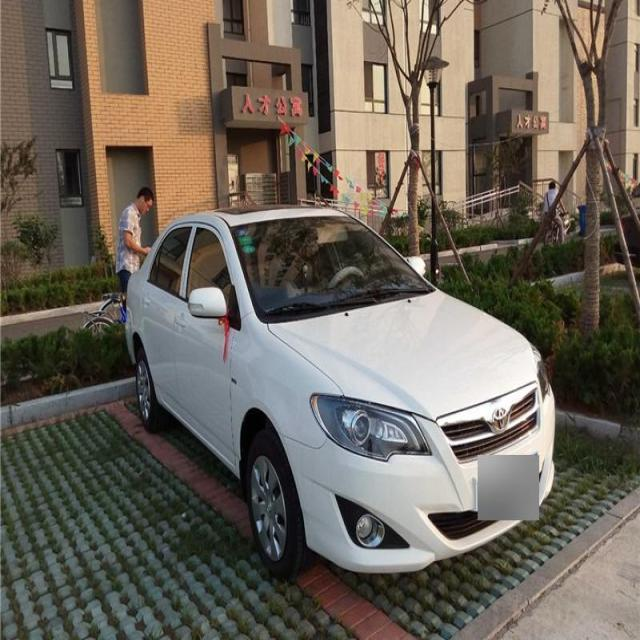front_bumper: (284, 394, 558, 571)
front_glass: (232, 214, 438, 328)
front_left_side_mirror: (402, 253, 428, 279)
front_right_side_door: (172, 214, 239, 464)
front_right_side_light: (310, 388, 434, 465)
front_right_side_mirror: (186, 286, 229, 325)
wheel: (246, 439, 300, 578), (134, 346, 160, 426)
